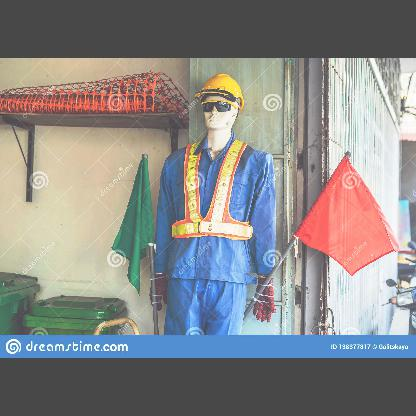Mannequin: (149, 72, 276, 356)
